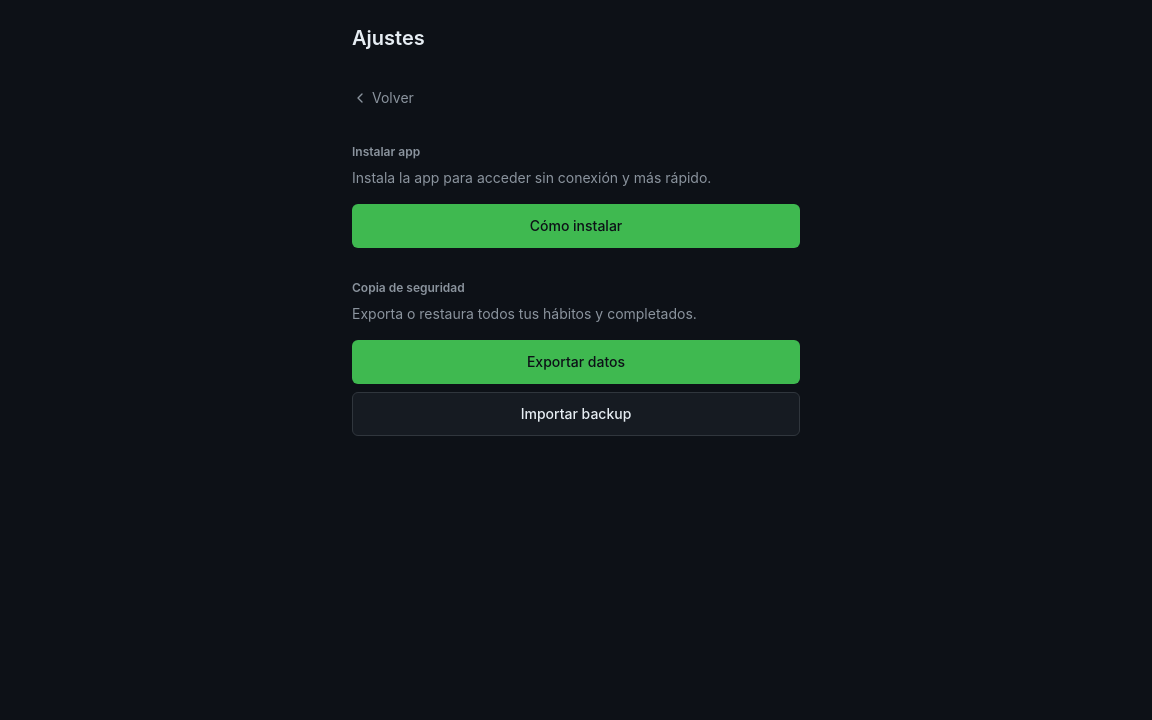
it: SettingsPage › install section › shows Cómo instalar on iOS and opens modal with reminders intro
Click the button "Cómo instalar" at (576, 226), box [352,204,800,248]
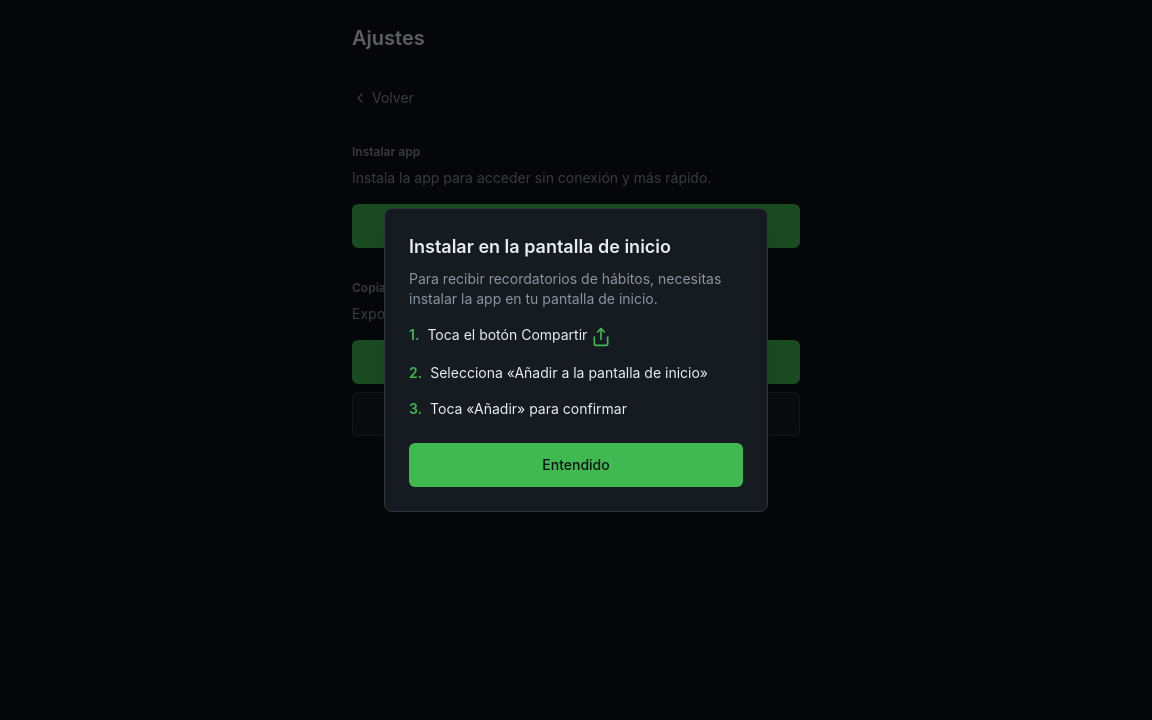
Check: the text "Para recibir recordatorios de hábitos, necesitas instalar la app en tu pantalla de inicio." is shown, box [409,270,721,307]
